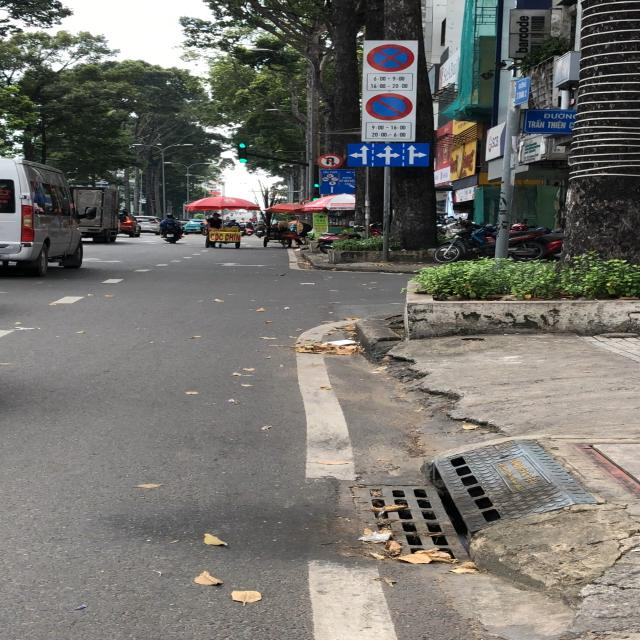Bien bao cam do xe: (364, 91, 416, 121)
Bien bao cam dung xe va do xe: (364, 41, 416, 74)
Bien bao cam quay dau xe: (316, 152, 344, 169)
